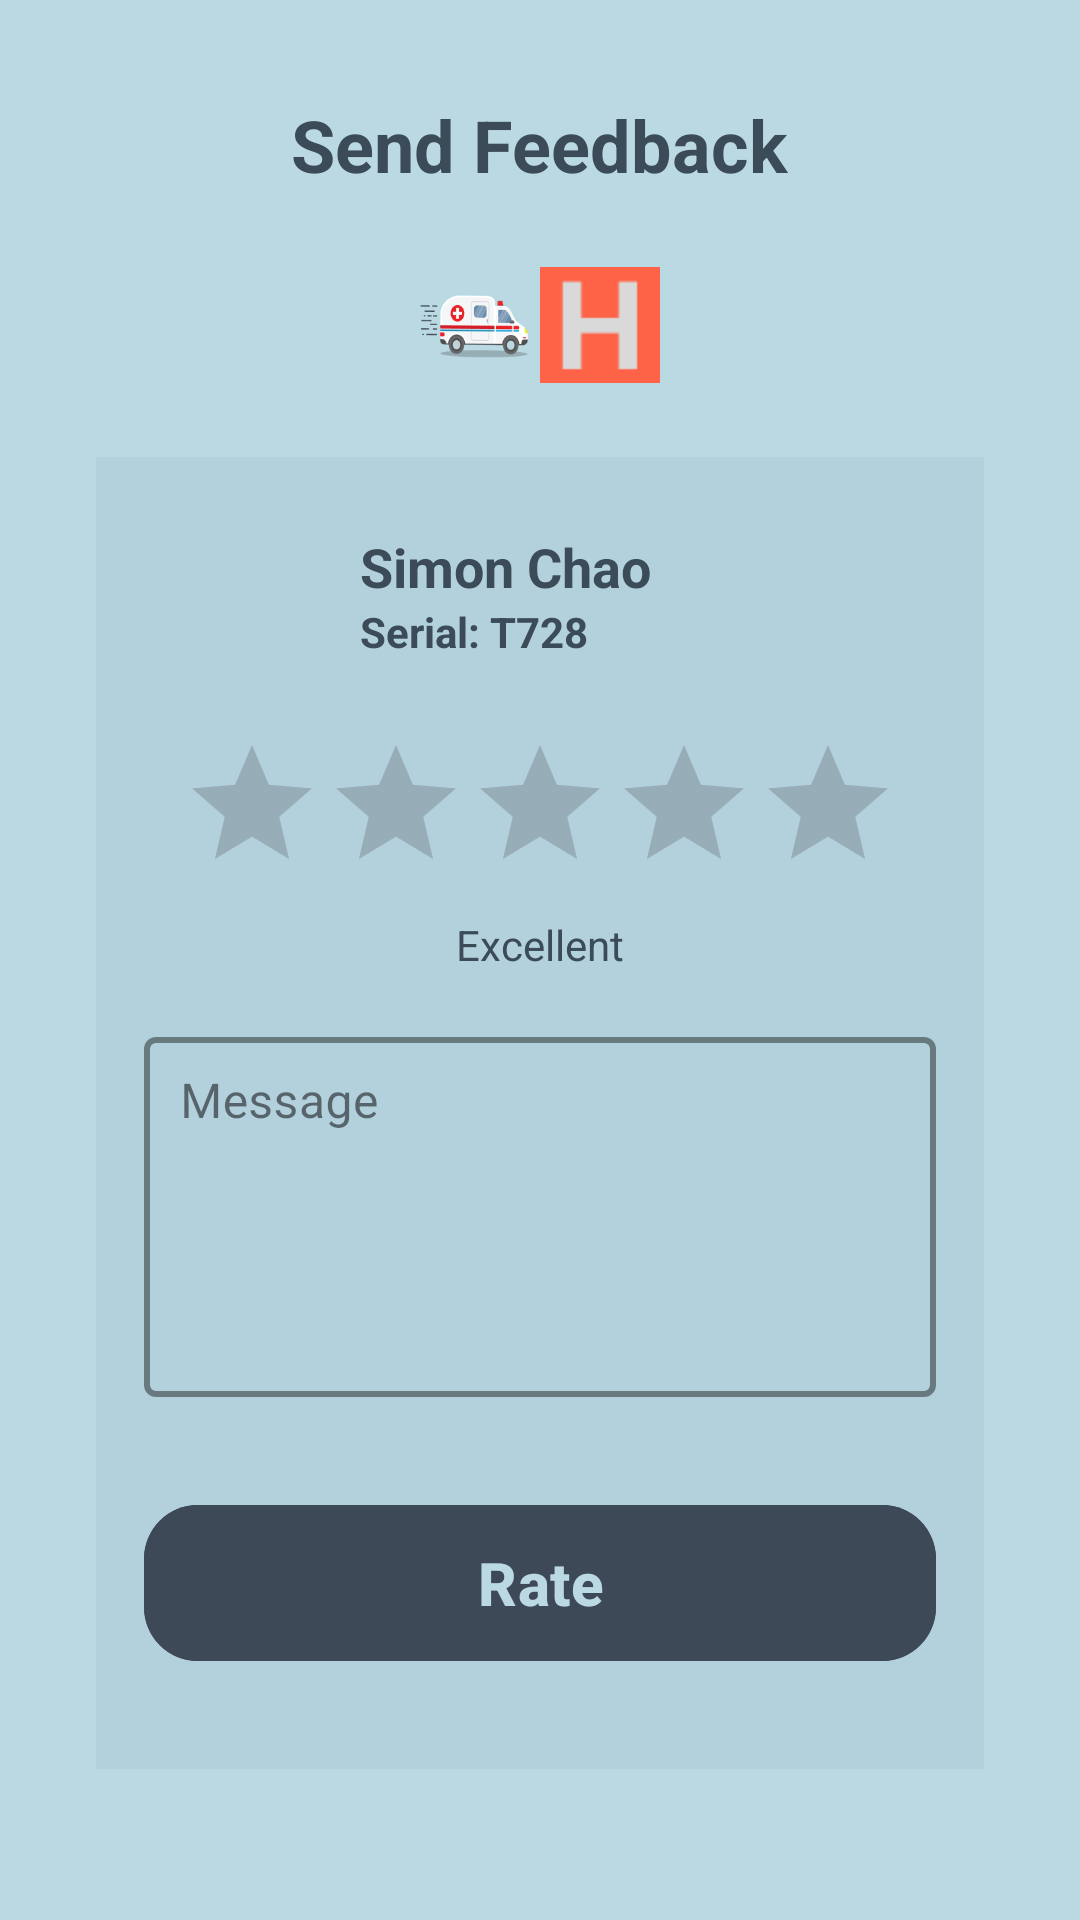

Icons on this 1080*1920 Android screen, each with the point to tap as (x=x, y=y):
ambulance: (x=474, y=326)
hospital marker: (x=600, y=325)
